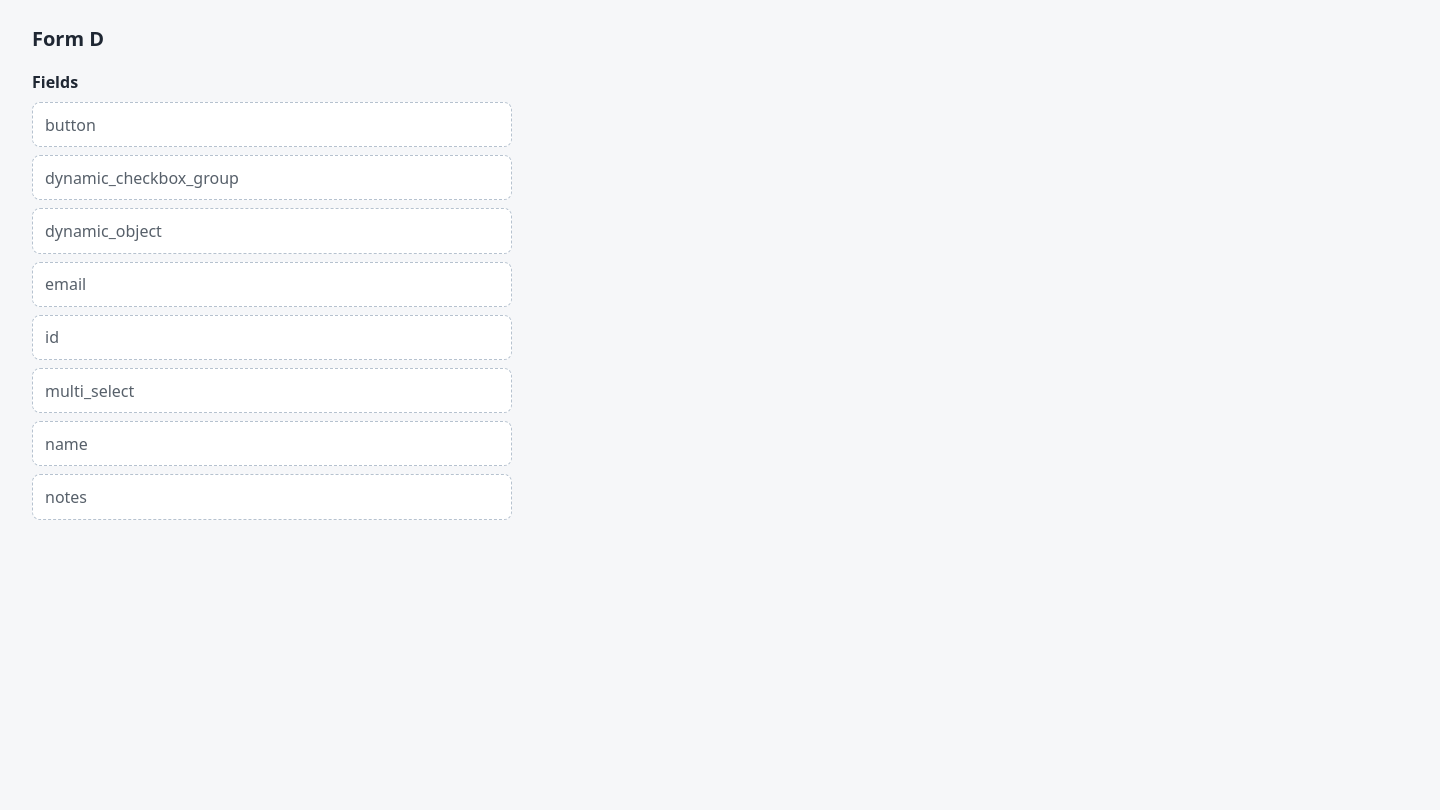
PrefillPanel › maps clicked field from modal selection and closes modal
Step 1. Click the button with aria-label "Map email" → (66, 284), box [32,262,512,307]
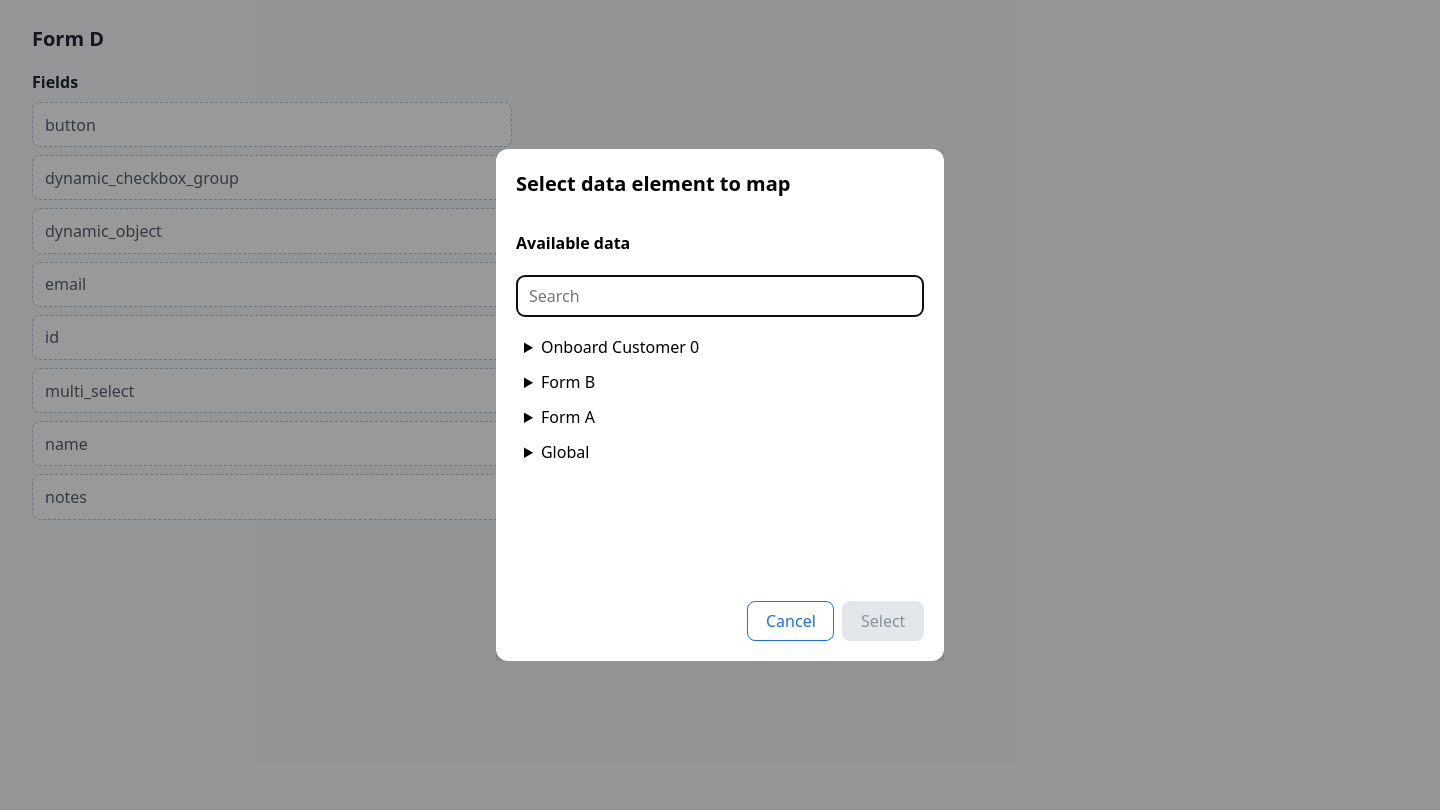
Step 2. Click the heading "Form B" → (568, 382), box [541,371,595,393]
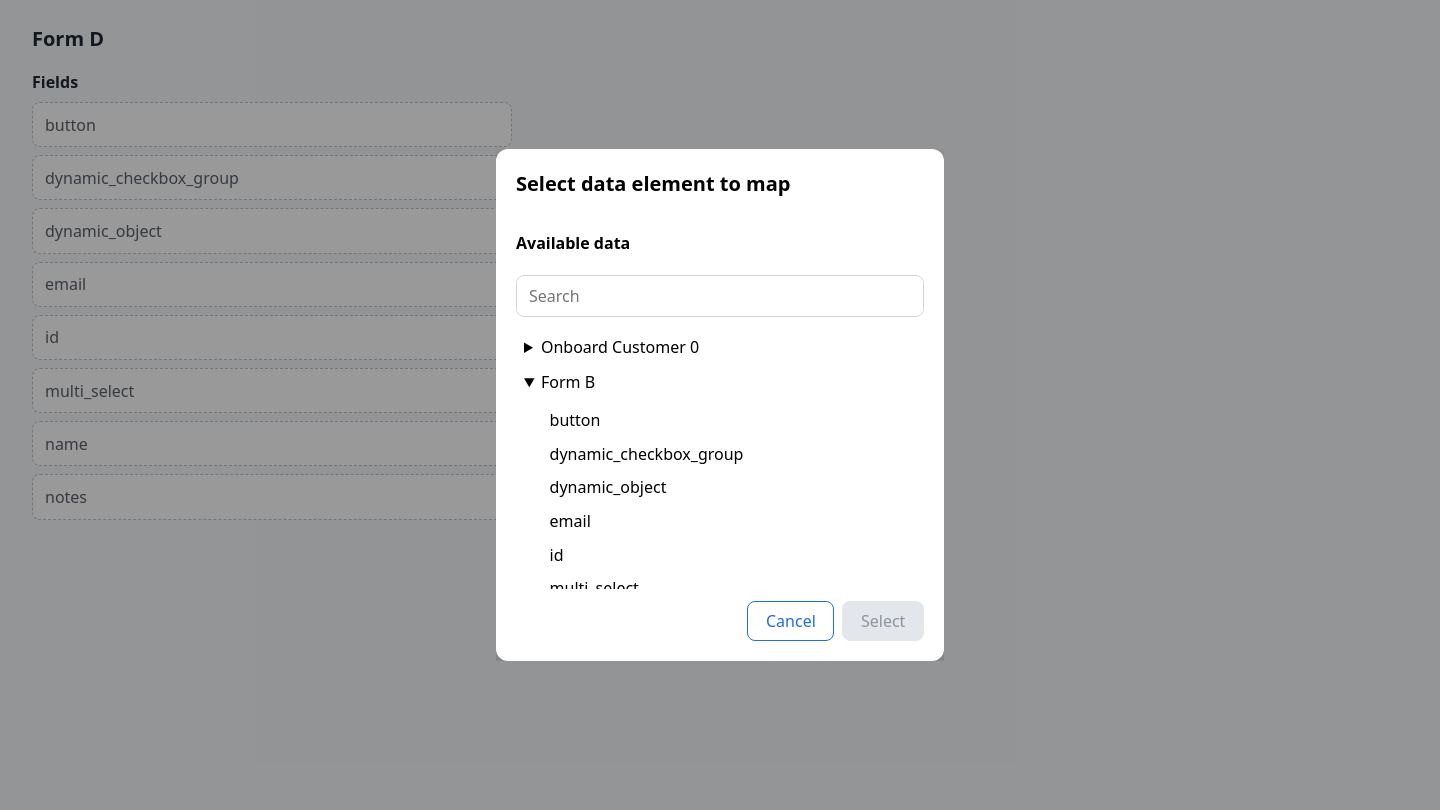
Step 3. Click the button "email" → (570, 521), box [540,504,924,538]
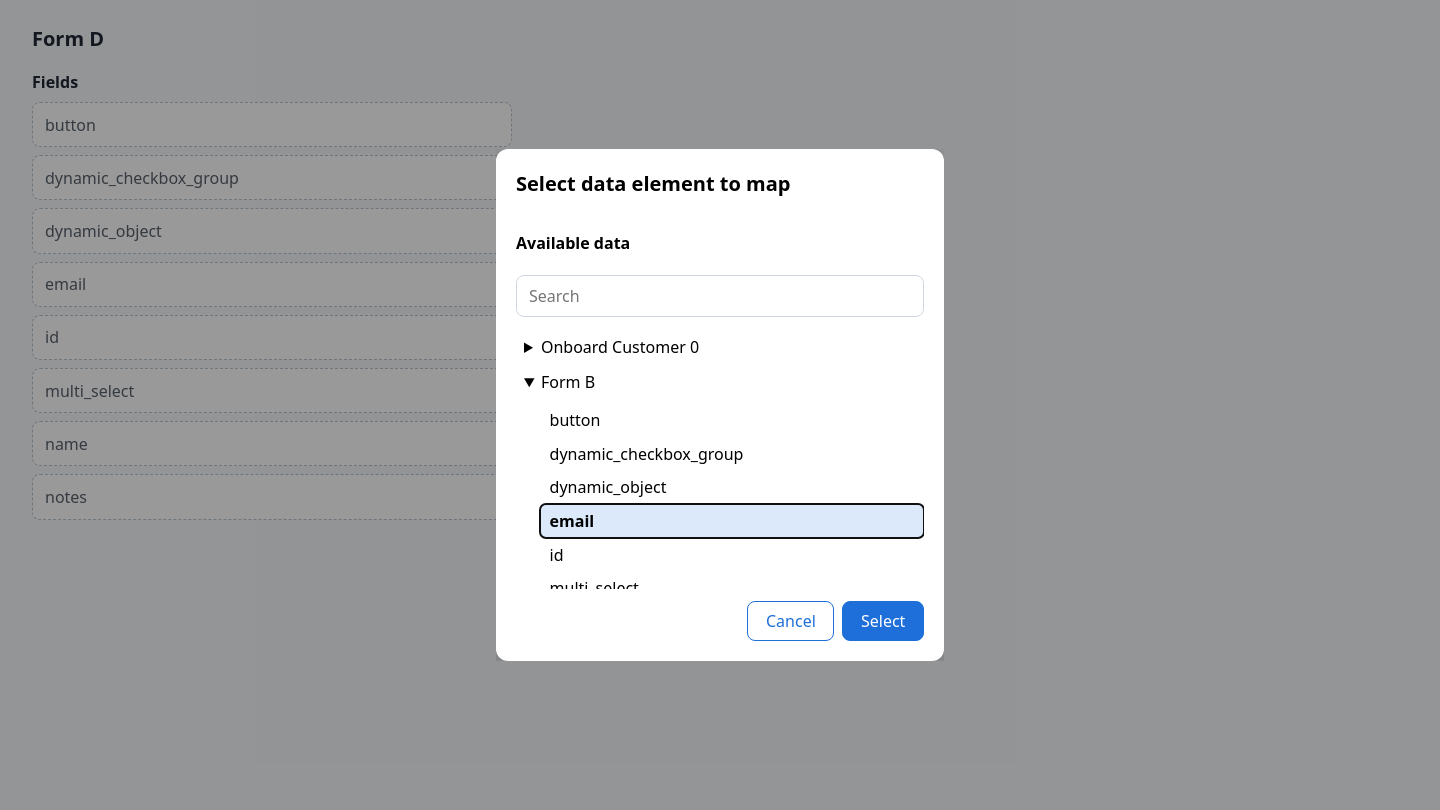
Step 4. Click the button "Select" → (883, 621), box [842,601,924,641]
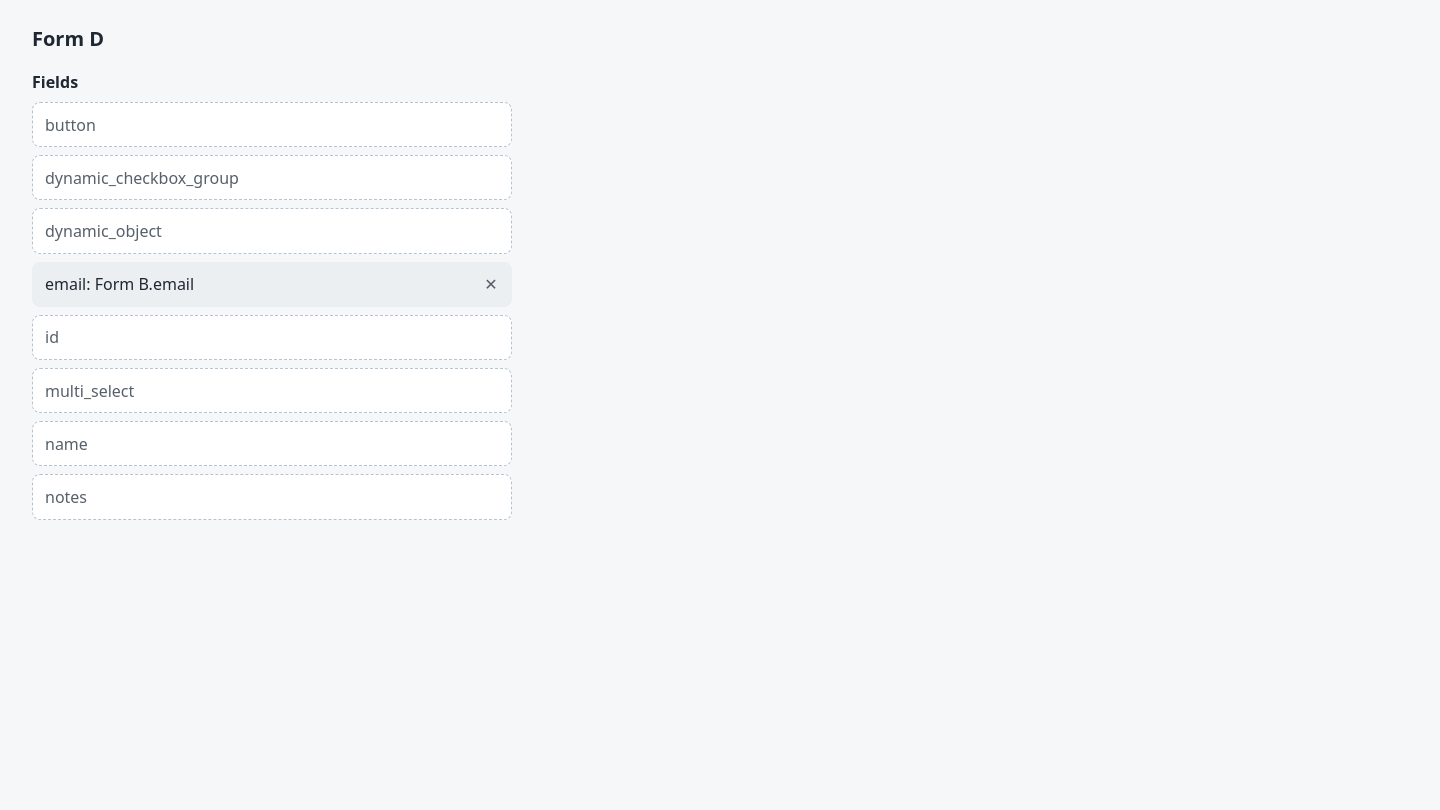
Expected: the dialog is gone
Expected: the text "email: Form B.email" is shown, [32,262,512,307]
